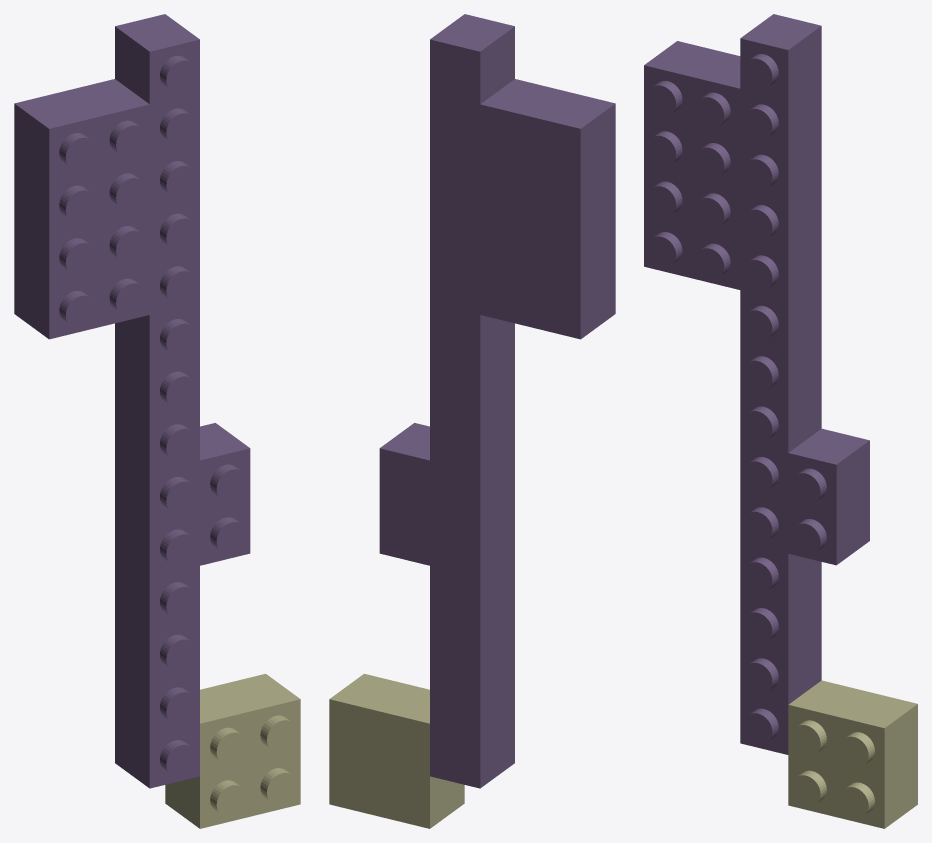
The model's file is current.glb.
The picture shows the model from 3 angles, left to right: view 1: azimuth 30°, elevation 25°; view 2: azimuth 150°, elevation 25°; view 3: azimuth 330°, elevation 25°; orthographic projection. The views are drawn at different scales.
Parts seen in each view (by area): view 1: world; view 2: world; view 3: world.
Boxes of the visible parts, <box> form: world: <box>14,14,300,828</box>; world: <box>329,14,615,828</box>; world: <box>644,14,917,828</box>.
Bounding box in the file's own units: 40 × 120 × 11.4.
